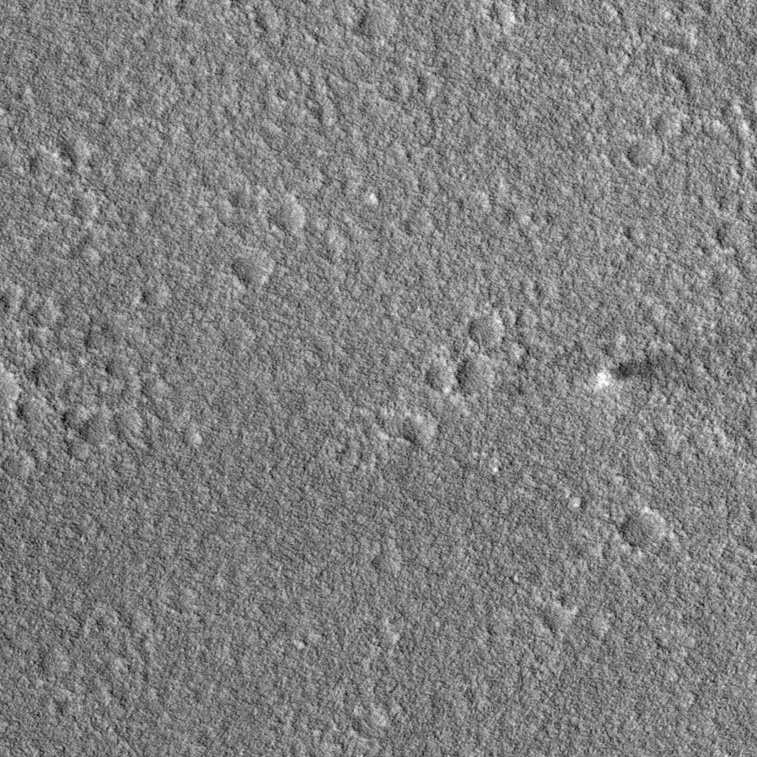dust_devil: (588, 328, 720, 394)
